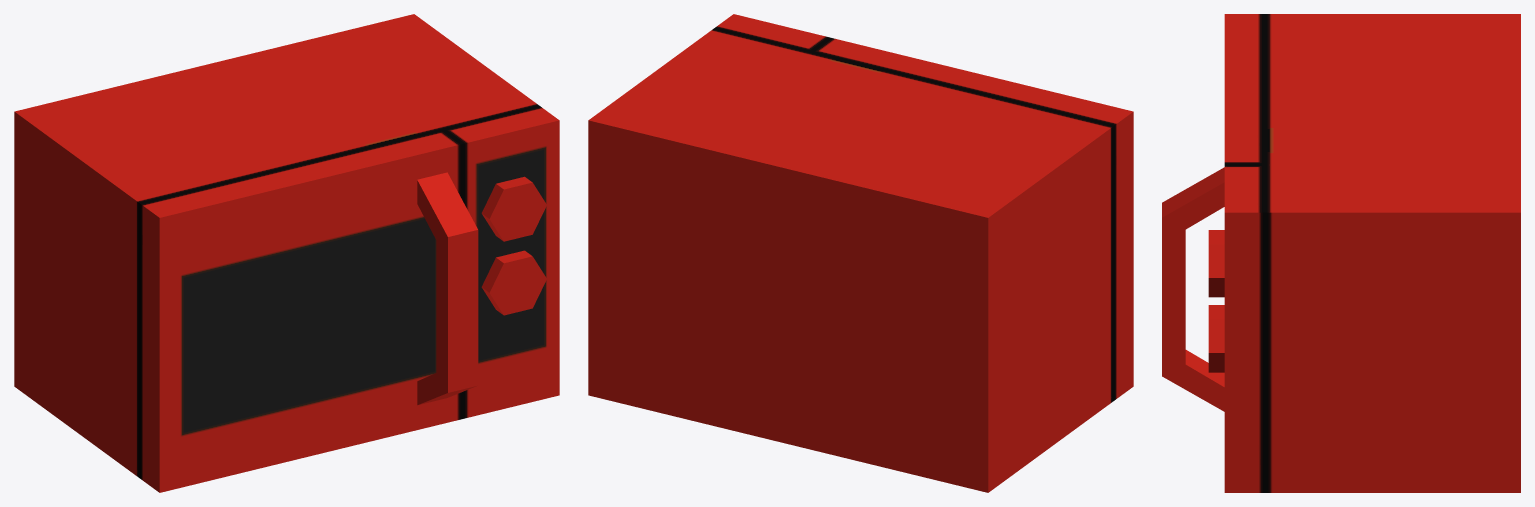
File: microwave3_PLY.fbx
3 views of the same model, side by side, from view 1: azimuth 30°, elevation 25°; view 2: azimuth 150°, elevation 25°; view 3: azimuth 270°, elevation 25° (orthographic).
Visible parts, largest first — view 1: microwave3_PLY; view 2: microwave3_PLY; view 3: microwave3_PLY.
Part boxes in pixels (left/top/right/bottom): microwave3_PLY: left=14, top=14, right=559, bottom=492; microwave3_PLY: left=588, top=14, right=1133, bottom=492; microwave3_PLY: left=1162, top=14, right=1520, bottom=492.
Bounding box in the file's own units: 2.38 × 1.56 × 1.82.
